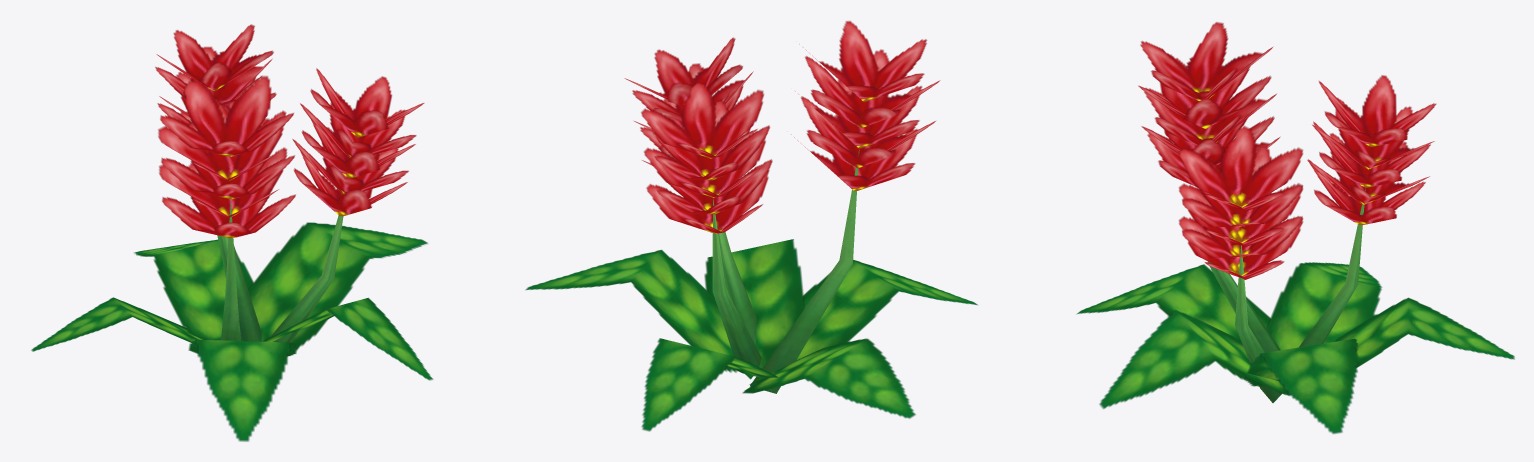
3 views of the same model, side by side, from view 1: azimuth 30°, elevation 25°; view 2: azimuth 150°, elevation 25°; view 3: azimuth 270°, elevation 25° (orthographic). The views are drawn at different scales.
Visible parts, largest first — view 1: flowers; view 2: flowers; view 3: flowers.
Boxes of the visible parts, bbox=[...] form: flowers: bbox=[31, 24, 433, 441]; flowers: bbox=[525, 21, 977, 431]; flowers: bbox=[1077, 22, 1514, 433].
Size of the model in its own units: 128 by 93.55 by 124.
Materials: 1 (1 with a texture image).
